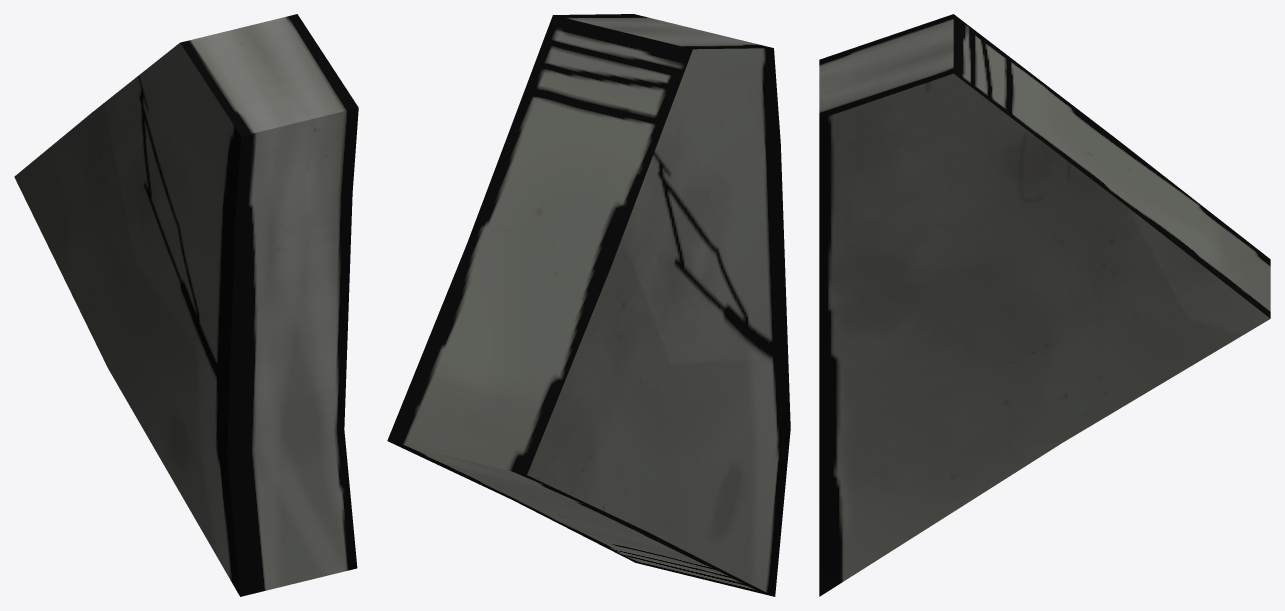
The model's file is tombstone_01_gib1.fbx.
The picture shows the model from 3 angles, left to right: view 1: azimuth 30°, elevation 25°; view 2: azimuth 150°, elevation 25°; view 3: azimuth 270°, elevation 25°; orthographic projection. The views are drawn at different scales.
Visible parts, largest first — view 1: tombstone_01_gib1; view 2: tombstone_01_gib1; view 3: tombstone_01_gib1.
Part boxes in pixels (bbox=[...]): tombstone_01_gib1: bbox=[14, 14, 358, 596]; tombstone_01_gib1: bbox=[387, 14, 790, 596]; tombstone_01_gib1: bbox=[819, 14, 1270, 596].
Size of the model in its own units: 1.15 by 4.12 by 3.21.
